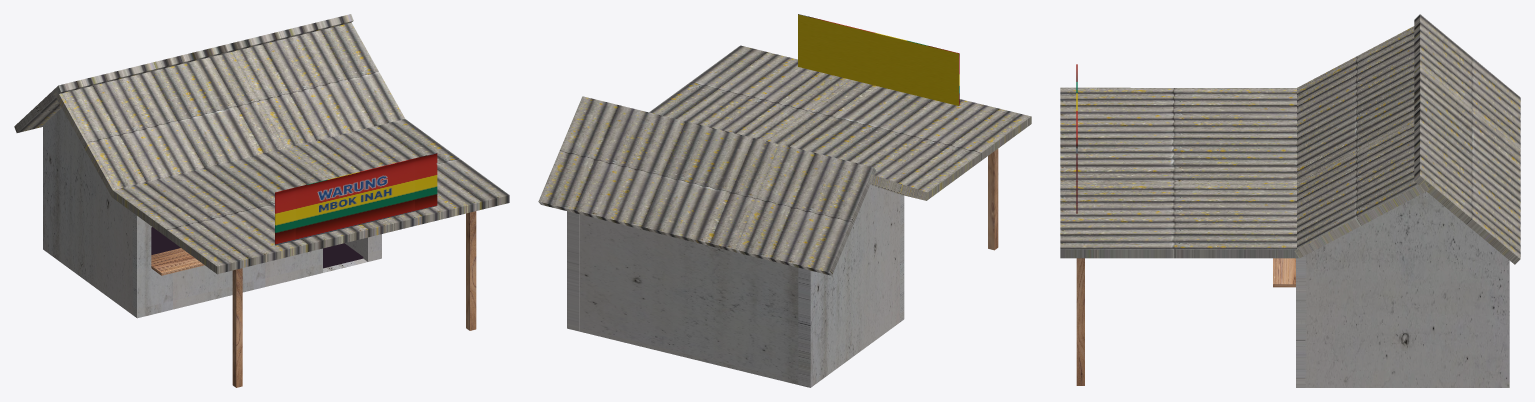
File: warung 1.fbx
The picture shows the model from 3 angles, left to right: view 1: azimuth 30°, elevation 25°; view 2: azimuth 150°, elevation 25°; view 3: azimuth 270°, elevation 25°; orthographic projection. The views are drawn at different scales.
Visible parts, largest first — view 1: atap, atap.001, Cube.004, Plane, Cube.001, atap.002, Cube.006, Cube.002, Cube; view 2: atap.002, atap.001, Cube.003, Cube.004, Plane, Cube.005, Cube.006, atap, Cube.001; view 3: atap.001, Cube.005, atap, atap.002, Cube.001, Cube.006, Cube.
Part boxes in pixels (x1=…): atap: x1=54, y1=22, x2=405, y2=196; atap.001: x1=112, y1=119, x2=509, y2=274; Cube.004: x1=43, y1=108, x2=133, y2=314; Plane: x1=275, y1=153, x2=437, y2=245; Cube.001: x1=132, y1=213, x2=381, y2=318; atap.002: x1=14, y1=14, x2=353, y2=132; Cube.006: x1=232, y1=211, x2=476, y2=387; Cube.002: x1=151, y1=227, x2=363, y2=268; Cube: x1=151, y1=248, x2=204, y2=275; atap.002: x1=538, y1=96, x2=875, y2=275; atap.001: x1=649, y1=45, x2=1031, y2=200; Cube.003: x1=579, y1=214, x2=798, y2=384; Cube.004: x1=798, y1=184, x2=900, y2=387; Plane: x1=798, y1=14, x2=959, y2=105; Cube.005: x1=567, y1=211, x2=579, y2=331; Cube.006: x1=988, y1=149, x2=998, y2=250; atap: x1=869, y1=174, x2=928, y2=200; Cube.001: x1=899, y1=194, x2=904, y2=322; atap.001: x1=1060, y1=87, x2=1298, y2=258; Cube.005: x1=1305, y1=191, x2=1509, y2=387; atap: x1=1294, y1=26, x2=1429, y2=258; atap.002: x1=1414, y1=14, x2=1520, y2=264; Cube.001: x1=1296, y1=255, x2=1306, y2=387; Cube.006: x1=1076, y1=258, x2=1084, y2=385; Cube: x1=1273, y1=258, x2=1295, y2=287.
Bounding box in the file's own units: 692 × 449 × 832.
Materials: 11 (10 with a texture image).
